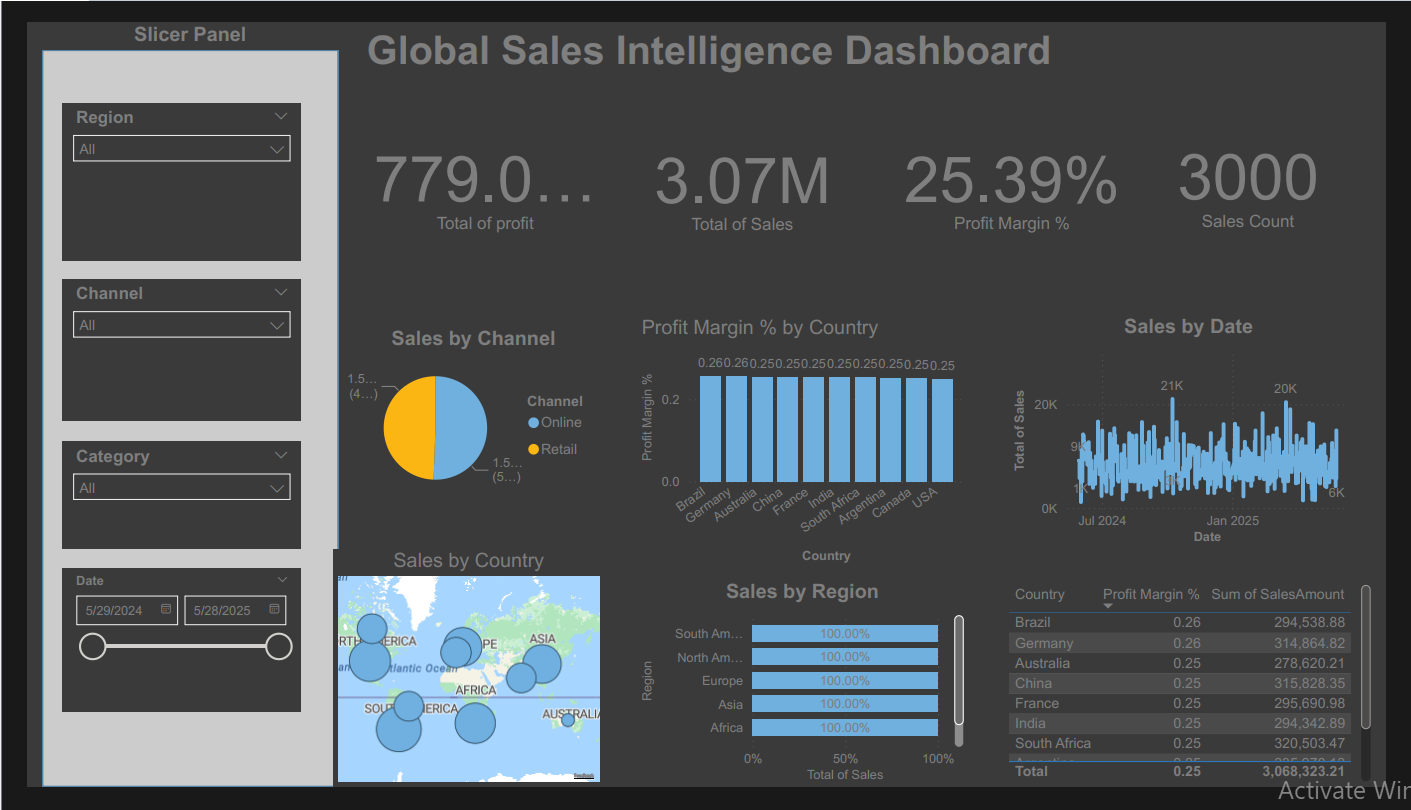

This screenshot's page, from the dashboard's own definition file:
{"tool":"powerbi","page":{"name":"Global Sales Intelligence ","canvas":[1280,720],"ordinal":0},"visuals":[{"type":"textbox","box":[314.5,0,670.9,56.3],"z":0},{"type":"card","fields":{"Values":["FactSales.Total of Sales"]},"box":[574.4,77.9,199.3,150.4],"z":1000},{"type":"card","fields":{"Values":["FactSales.Sales Count"]},"box":[1051,74.3,199.3,150.4],"z":2000},{"type":"card","fields":{"Values":["FactSales.Profit Margin %"]},"box":[816,80,224,144],"z":3000},{"type":"card","fields":{"Values":["FactSales.Total of profit"]},"box":[314.5,76.5,233.7,150],"z":4000},{"type":"pieChart","title":" Sales by Channel","fields":{"Y":["FactSales.Total of Sales"],"Category":["FactSales.Channel"]},"box":[292.9,287.1,255.4,168.8],"z":5000},{"type":"columnChart","fields":{"Y":["FactSales.Profit Margin %"],"Category":["FactSales.Country"]},"box":[574.2,277,313.1,236.6],"z":6000},{"type":"lineChart","title":"Sales by Date","fields":{"Y":["FactSales.Total of Sales"],"Category":["FactSales.Date"]},"box":[924.8,275.6,339,220.7],"z":7000},{"type":"hundredPercentStackedBarChart","title":" Sales by Region","fields":{"Y":["FactSales.Total of Sales"],"Category":["FactSales.Region"]},"box":[574.2,525.2,313.1,194.8],"z":8000},{"type":"tableEx","fields":{"Values":["FactSales.Country","FactSales.Profit Margin %","Sum(FactSales.SalesAmount)"]},"box":[920.5,525.2,350.6,194.8],"z":9000},{"type":"shape","title":"Slicer Panel","box":[14.4,0,278.5,719.9],"z":10000},{"type":"slicer","fields":{"Values":["FactSales.Region"]},"box":[33.2,76.5,225.1,147.2],"z":11000},{"type":"slicer","fields":{"Values":["FactSales.Channel"]},"box":[33.2,242.4,225.1,132.7],"z":12000},{"type":"slicer","fields":{"Values":["DimProducts.Category"]},"box":[33.2,395.3,225.1,101],"z":13000},{"type":"slicer","fields":{"Values":["FactSales.Date"]},"box":[33.2,513.6,225.1,135.6],"z":14000},{"type":"azureMap","title":" Sales by Country","fields":{"Category":["FactSales.Country"],"Size":["FactSales.Total of Sales"]},"box":[288,496,256,224],"z":15000}]}

Visuals, with their boxes on the page's 1280x720 design canvas (x1, y1, x2, y2). These are canvas units, not pixel positions in the 1411x810 screenshot, which may show the page scaled, cropped or inside an application window:
textbox: 314 0 985 56
card - FactSales.Total of Sales: 574 78 774 228
card - FactSales.Sales Count: 1051 74 1250 225
card - FactSales.Profit Margin %: 816 80 1040 224
card - FactSales.Total of profit: 314 76 548 226
" Sales by Channel" pieChart: 293 287 548 456
columnChart - FactSales.Profit Margin % x FactSales.Country: 574 277 887 514
"Sales by Date" lineChart: 925 276 1264 496
" Sales by Region" hundredPercentStackedBarChart: 574 525 887 720
tableEx - FactSales.Country x FactSales.Profit Margin %: 920 525 1271 720
"Slicer Panel" shape: 14 0 293 720
slicer - FactSales.Region: 33 76 258 224
slicer - FactSales.Channel: 33 242 258 375
slicer - DimProducts.Category: 33 395 258 496
slicer - FactSales.Date: 33 514 258 649
" Sales by Country" azureMap: 288 496 544 720
